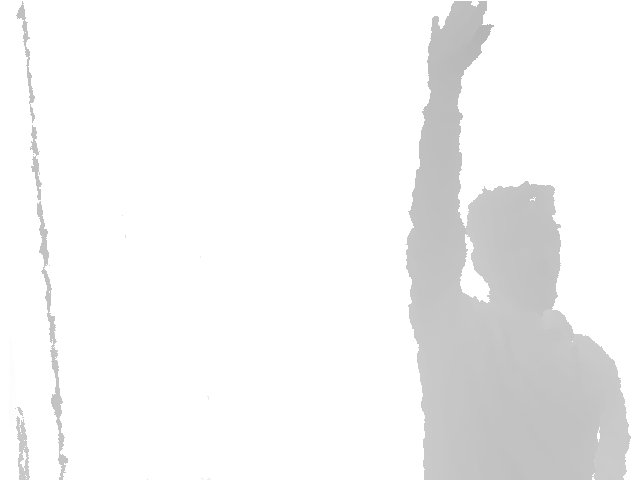hand: (427, 1, 494, 96)
head: (466, 180, 562, 308)
person: (404, 1, 631, 480)
